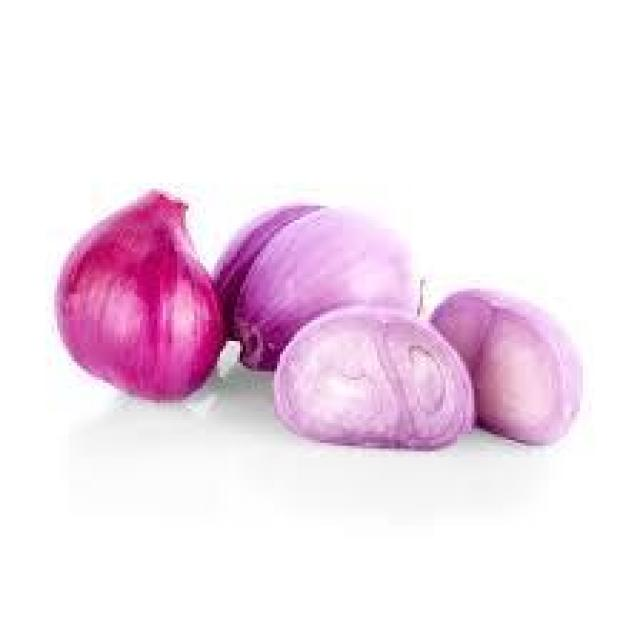Onion: (53, 181, 221, 416), (204, 188, 424, 348), (267, 297, 467, 469), (428, 256, 583, 444)
